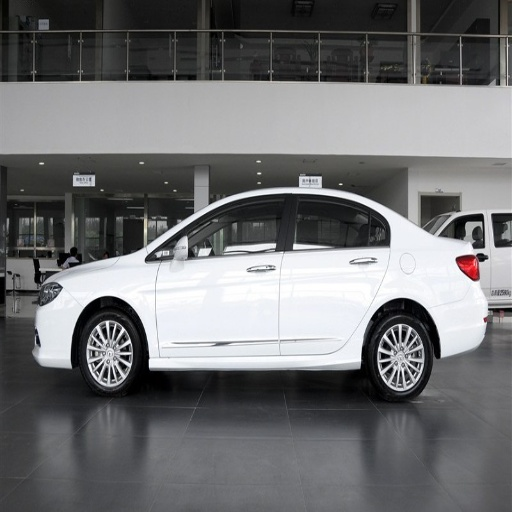back_bumper: (432, 276, 488, 355)
back_left_door: (279, 196, 390, 353)
front_left_door: (155, 197, 290, 356)
